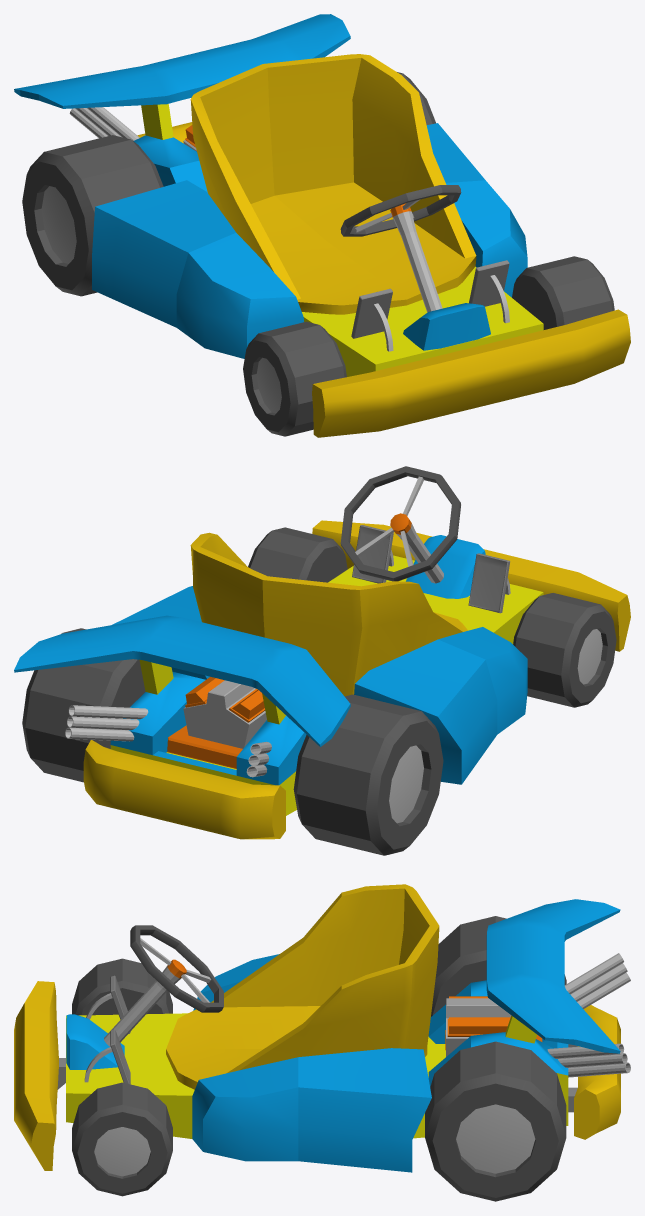
File: FinishedKart.fbx
3 renders of one model, top to bottom at view 1: azimuth 30°, elevation 25°; view 2: azimuth 150°, elevation 25°; view 3: azimuth 270°, elevation 25°, orthographic. The views are drawn at different scales.
Parts seen in each view (by area): view 1: frame, seat, wheel_driving_right, wheel_turning_right, wheel_turning_left, steeringWheel, steeringColumnBase, pCube1 (×2), pCylinder19; view 2: frame, seat, wheel_driving_right, wheel_turning_right, wheel_driving_left, steeringWheel, engine, wheel_turning_left, pCube1 (×2), steeringColumnBase, engineSupport, pCylinder10 (+2 smaller); view 3: frame, seat, wheel_driving_left, wheel_turning_left, steeringWheel, wheel_driving_right, wheel_turning_right, engine, steeringColumnBase, pCylinder19, pCylinder11, pCylinder12 (+4 smaller).
Part boxes in pixels (x1=…): frame: x1=14, y1=14, x2=630, y2=437; seat: x1=190, y1=54, x2=476, y2=314; wheel_driving_right: x1=22, y1=135, x2=163, y2=296; wheel_turning_right: x1=243, y1=321, x2=346, y2=436; wheel_turning_left: x1=512, y1=256, x2=614, y2=329; steeringWheel: x1=340, y1=185, x2=461, y2=312; steeringColumnBase: x1=403, y1=303, x2=490, y2=350; pCube1 (×2): x1=351, y1=260, x2=509, y2=338; pCylinder19: x1=87, y1=107, x2=139, y2=140; frame: x1=14, y1=520, x2=630, y2=839; seat: x1=190, y1=532, x2=467, y2=696; wheel_driving_right: x1=293, y1=694, x2=443, y2=855; wheel_turning_right: x1=513, y1=593, x2=616, y2=707; wheel_driving_left: x1=22, y1=628, x2=145, y2=782; steeringWheel: x1=340, y1=466, x2=460, y2=583; engine: x1=183, y1=676, x2=266, y2=748; wheel_turning_left: x1=248, y1=527, x2=347, y2=582; pCube1 (×2): x1=352, y1=525, x2=510, y2=613; steeringColumnBase: x1=406, y1=535, x2=485, y2=598; engineSupport: x1=167, y1=725, x2=242, y2=768; pCylinder10: x1=68, y1=705, x2=148, y2=719; frame: x1=14, y1=899, x2=620, y2=1172; seat: x1=166, y1=884, x2=439, y2=1089; wheel_driving_left: x1=425, y1=1041, x2=566, y2=1201; wheel_turning_left: x1=72, y1=1082, x2=172, y2=1196; steeringWheel: x1=104, y1=925, x2=223, y2=1046; wheel_driving_right: x1=431, y1=916, x2=566, y2=1016; wheel_turning_right: x1=72, y1=958, x2=172, y2=1015; engine: x1=446, y1=996, x2=511, y2=1056; steeringColumnBase: x1=66, y1=1014, x2=124, y2=1069; pCylinder19: x1=564, y1=953, x2=623, y2=994; pCylinder11: x1=558, y1=1053, x2=627, y2=1067; pCylinder12: x1=568, y1=1062, x2=630, y2=1077.
Size of the model in its own units: 8 by 4.31 by 12.2.
